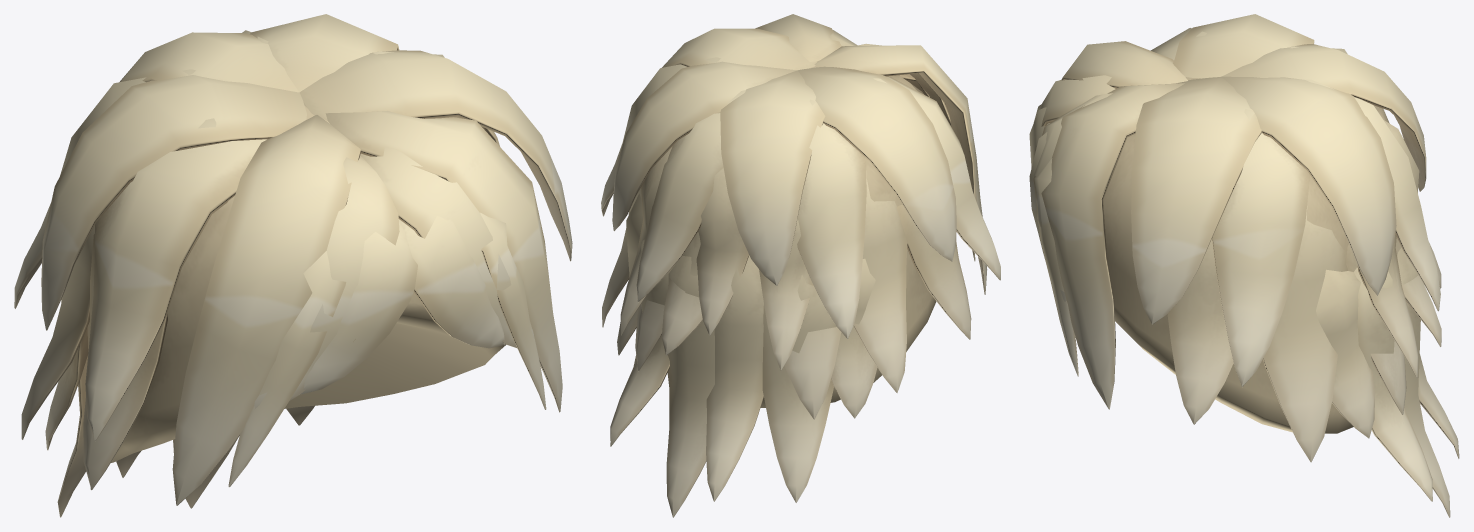
File: FluffyWolfCut_Platine.fbx
The picture shows the model from 3 angles, left to right: view 1: azimuth 30°, elevation 25°; view 2: azimuth 150°, elevation 25°; view 3: azimuth 270°, elevation 25°; orthographic projection. The views are drawn at different scales.
Visible parts, largest first — view 1: FluffyWolfCut; view 2: FluffyWolfCut; view 3: FluffyWolfCut.
Part boxes in pixels (x1,y1,x2,y2): FluffyWolfCut: [14, 14, 572, 517]; FluffyWolfCut: [601, 14, 1000, 517]; FluffyWolfCut: [1029, 14, 1459, 517].
Size of the model in its own units: 1.71 by 1.78 by 1.56.
1 material, 1 textured.
